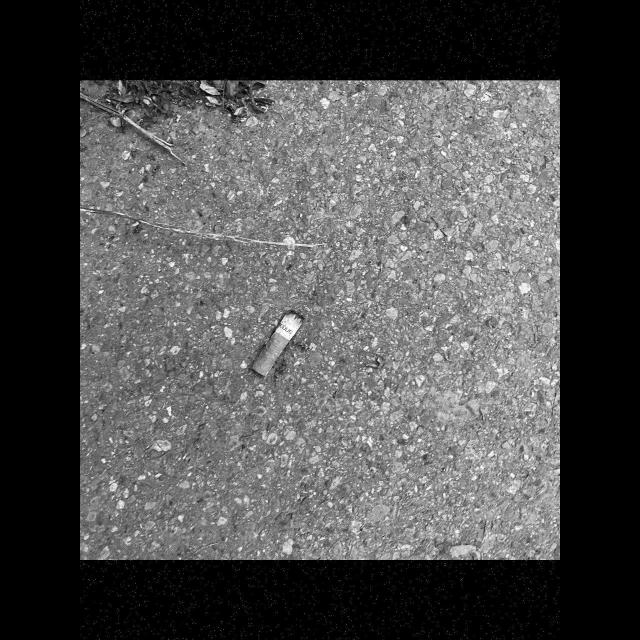cigarette: (251, 309, 305, 376)
